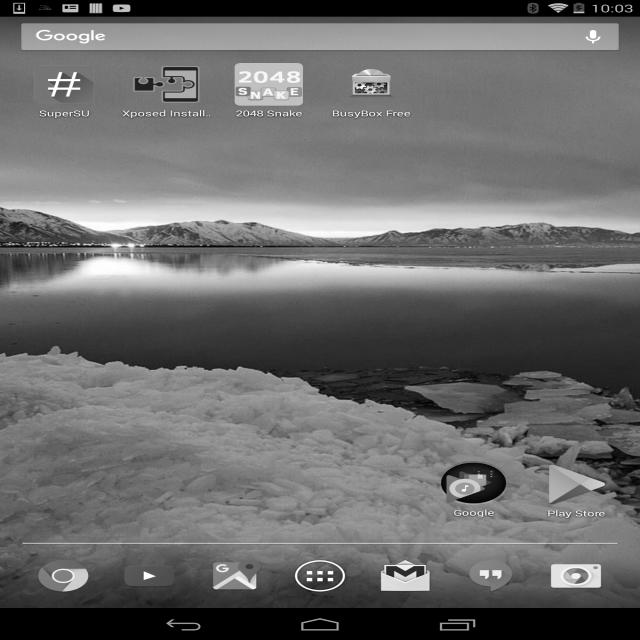ImageButton: (577, 27, 610, 47)
ImageView: (229, 60, 316, 108), (436, 459, 510, 506), (122, 63, 208, 102), (21, 64, 104, 104), (538, 461, 608, 505), (33, 559, 100, 594), (371, 559, 435, 595), (545, 559, 608, 595), (207, 559, 266, 592), (342, 67, 406, 97)
TextView: (28, 26, 118, 44), (118, 106, 210, 122), (328, 106, 416, 122), (448, 509, 498, 521), (36, 109, 91, 119)
